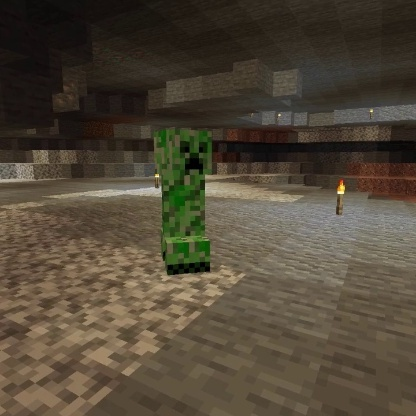creeper: (150, 127, 217, 278)
